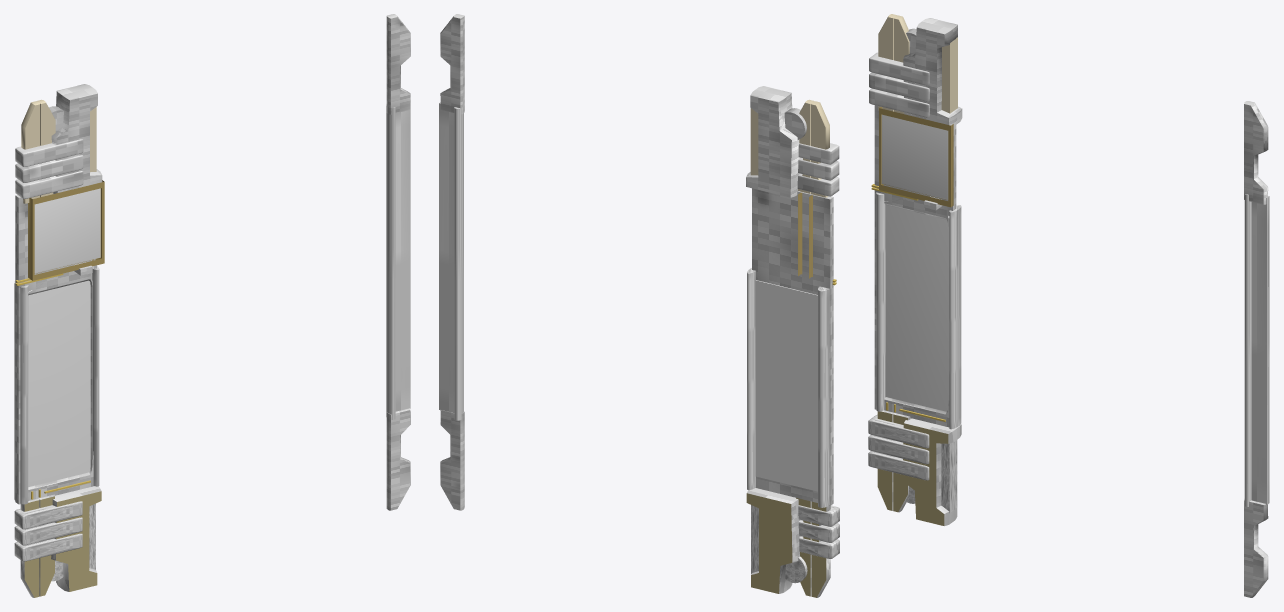
File: Ares Instruments 2.obj
3 renders of one model, left to right at view 1: azimuth 30°, elevation 25°; view 2: azimuth 150°, elevation 25°; view 3: azimuth 330°, elevation 25°, orthographic.
Bounding box in the file's own units: 646 × 772 × 42.25.
